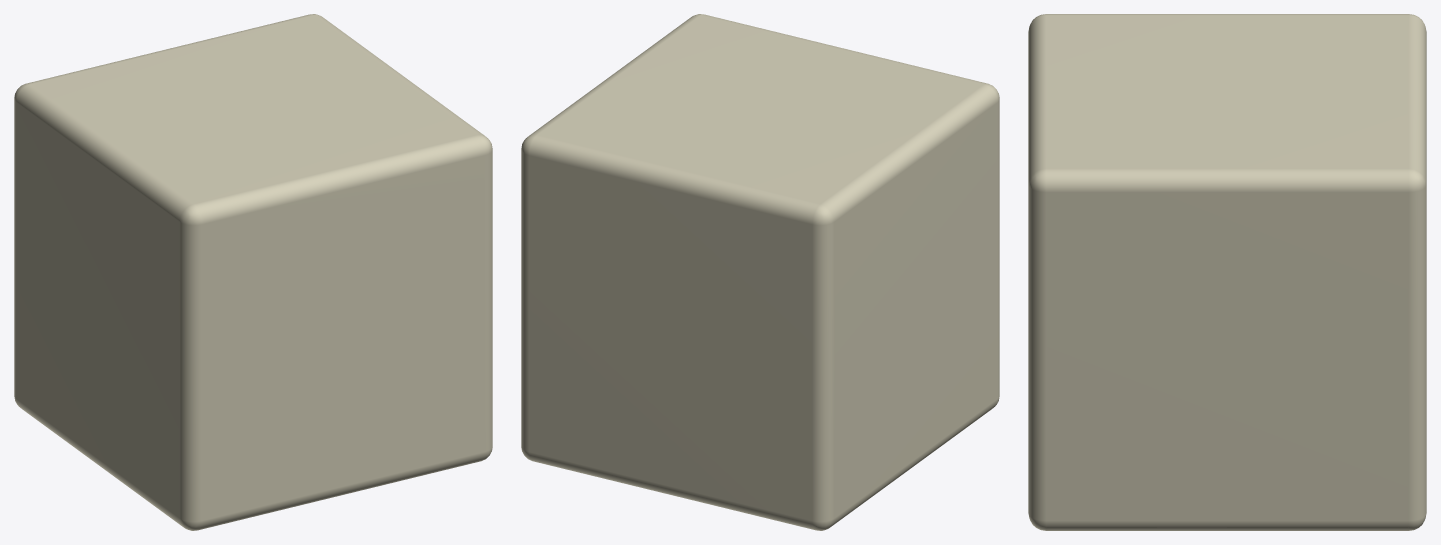
File: rounded_block.glb
3 views of the same model, side by side, from view 1: azimuth 30°, elevation 25°; view 2: azimuth 150°, elevation 25°; view 3: azimuth 270°, elevation 25° (orthographic). The views are drawn at different scales.
Parts seen in each view (by area): view 1: Warm cotton; view 2: Warm cotton; view 3: Warm cotton.
Boxes of the visible parts, <box> form: Warm cotton: <box>14,14,492,530</box>; Warm cotton: <box>521,14,999,530</box>; Warm cotton: <box>1028,14,1426,530</box>.
Bounding box in the file's own units: 1 × 1 × 1.
